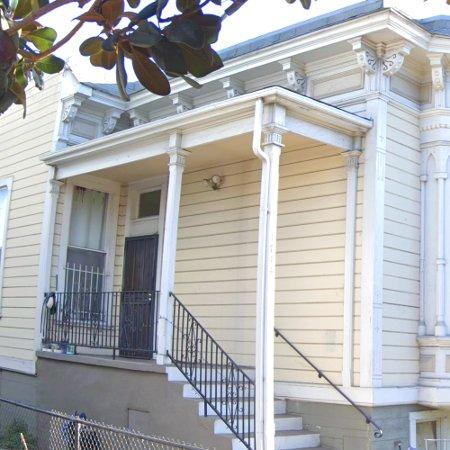stairs: (166, 299, 254, 450), (276, 401, 324, 450)
